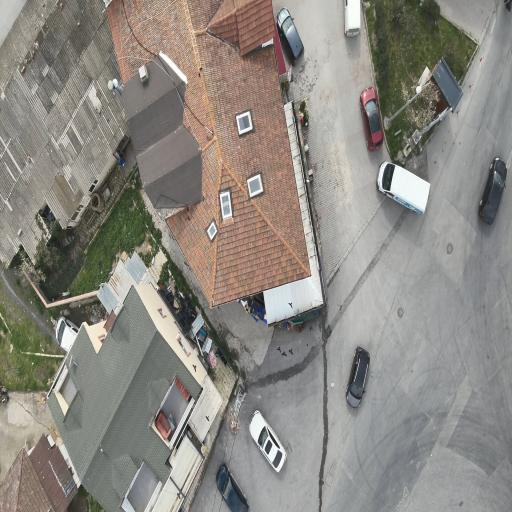car: (377, 161, 430, 214), (250, 411, 286, 472), (479, 158, 507, 224), (276, 8, 303, 64), (216, 464, 248, 511), (360, 87, 383, 151), (346, 347, 370, 407), (56, 317, 78, 351), (345, 0, 360, 36)
